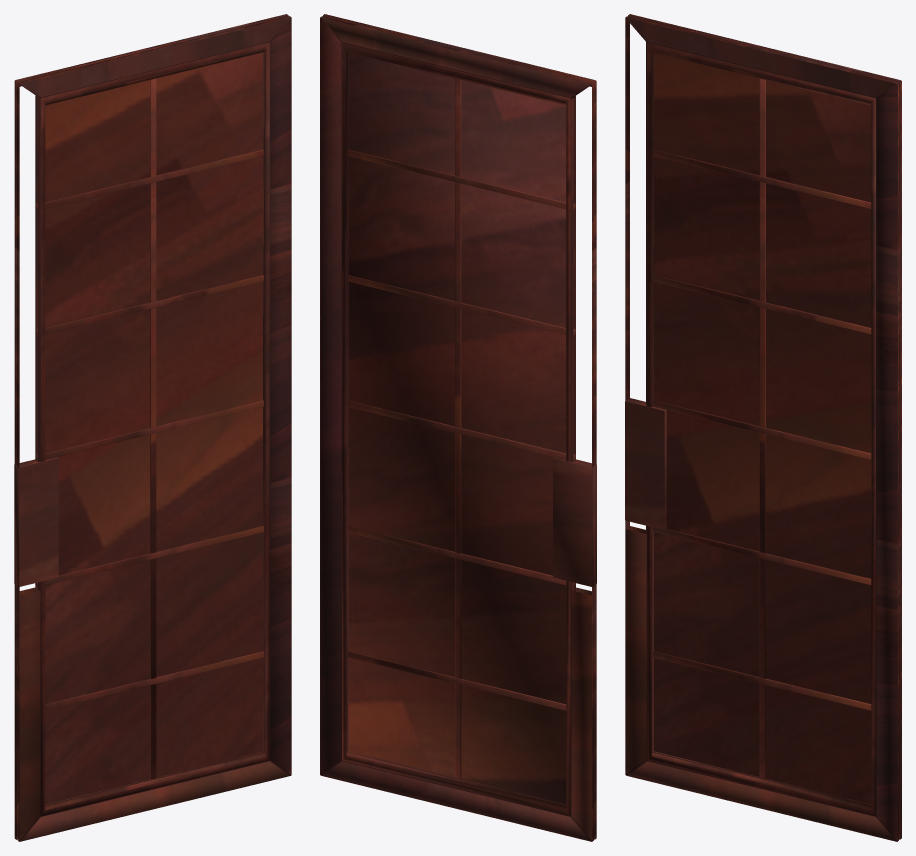
Rendered from Derecha.obj.
The picture shows the model from 3 angles, left to right: view 1: azimuth 30°, elevation 25°; view 2: azimuth 150°, elevation 25°; view 3: azimuth 330°, elevation 25°; orthographic projection.
Visible parts, largest first — view 1: Fachada:polySurface88; view 2: Fachada:polySurface88; view 3: Fachada:polySurface88.
Part boxes in pixels (x1,y1,x2,y2): Fachada:polySurface88: [14, 14, 291, 841]; Fachada:polySurface88: [320, 14, 596, 841]; Fachada:polySurface88: [625, 14, 901, 841].
Size of the model in its own units: 0.4429 by 1.18 by 0.0129.
Materials: 1 (1 with a texture image).
